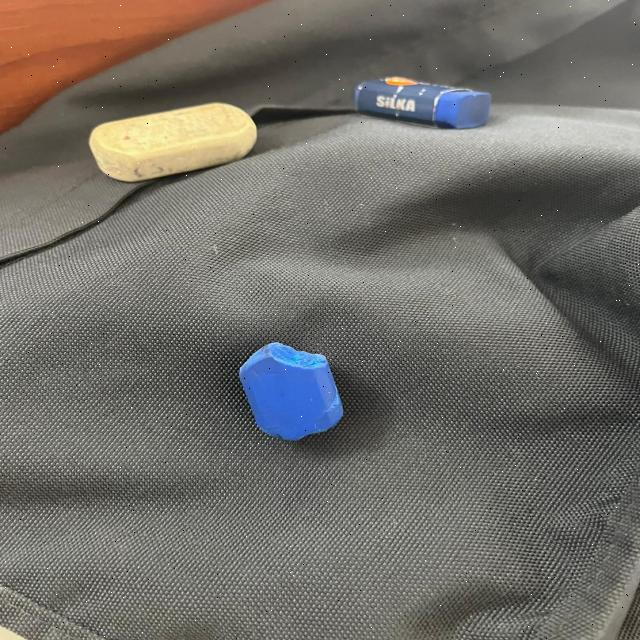eraser: (78, 96, 283, 184), (238, 334, 358, 446), (345, 67, 499, 137)
